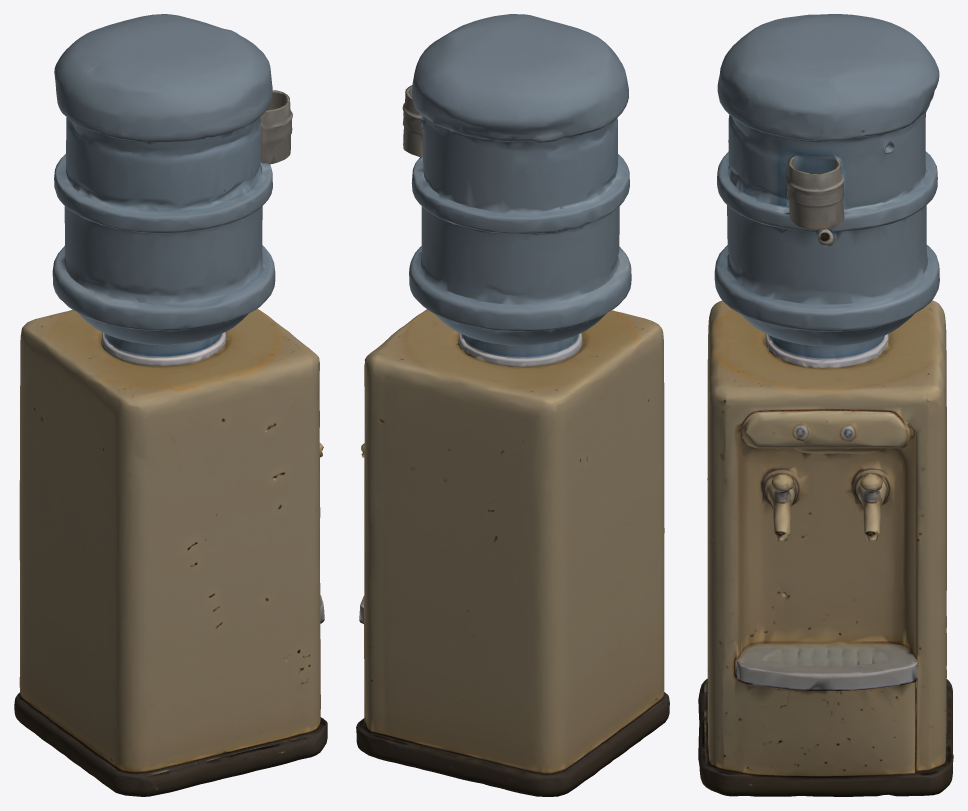
Rendered from theme-water-dispenser-v05.glb.
3 views of the same model, side by side, from view 1: azimuth 30°, elevation 25°; view 2: azimuth 150°, elevation 25°; view 3: azimuth 270°, elevation 25° (orthographic).
Parts seen in each view (by area): view 1: tripo_node_78d0e537-ddfe-41f3-a071-28ef15966589; view 2: tripo_node_78d0e537-ddfe-41f3-a071-28ef15966589; view 3: tripo_node_78d0e537-ddfe-41f3-a071-28ef15966589.
Boxes of the visible parts, x1,y1,x2,y2 form: tripo_node_78d0e537-ddfe-41f3-a071-28ef15966589: (14,14,327,796); tripo_node_78d0e537-ddfe-41f3-a071-28ef15966589: (356,14,669,796); tripo_node_78d0e537-ddfe-41f3-a071-28ef15966589: (698,14,953,796).
Size of the model in its own units: 0.5022 by 1.4 by 0.4622.
Materials: 1 (1 with a texture image).
